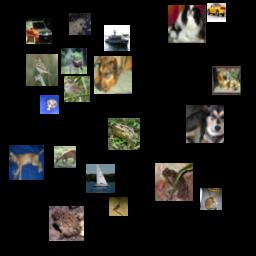automobile: (26, 18, 52, 44), (207, 3, 226, 22)
bird: (26, 54, 58, 86), (64, 76, 90, 102), (109, 197, 128, 216)
cat: (200, 188, 222, 210)
deer: (61, 48, 87, 74), (54, 146, 76, 168)
dog: (168, 5, 206, 43), (186, 105, 224, 143), (94, 56, 132, 94), (9, 145, 44, 180), (212, 66, 241, 95), (69, 13, 91, 35), (40, 95, 59, 114)
frog: (155, 163, 193, 201), (49, 206, 84, 241), (108, 118, 140, 150)
ship: (86, 164, 115, 193), (104, 25, 130, 51)
